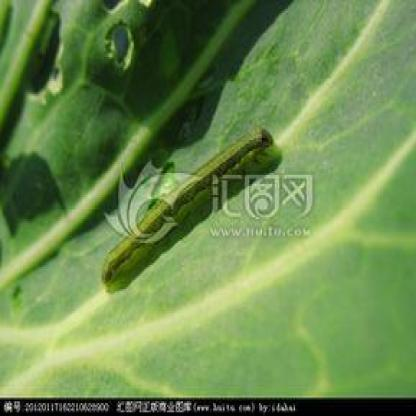armyworm: (90, 120, 284, 297)
